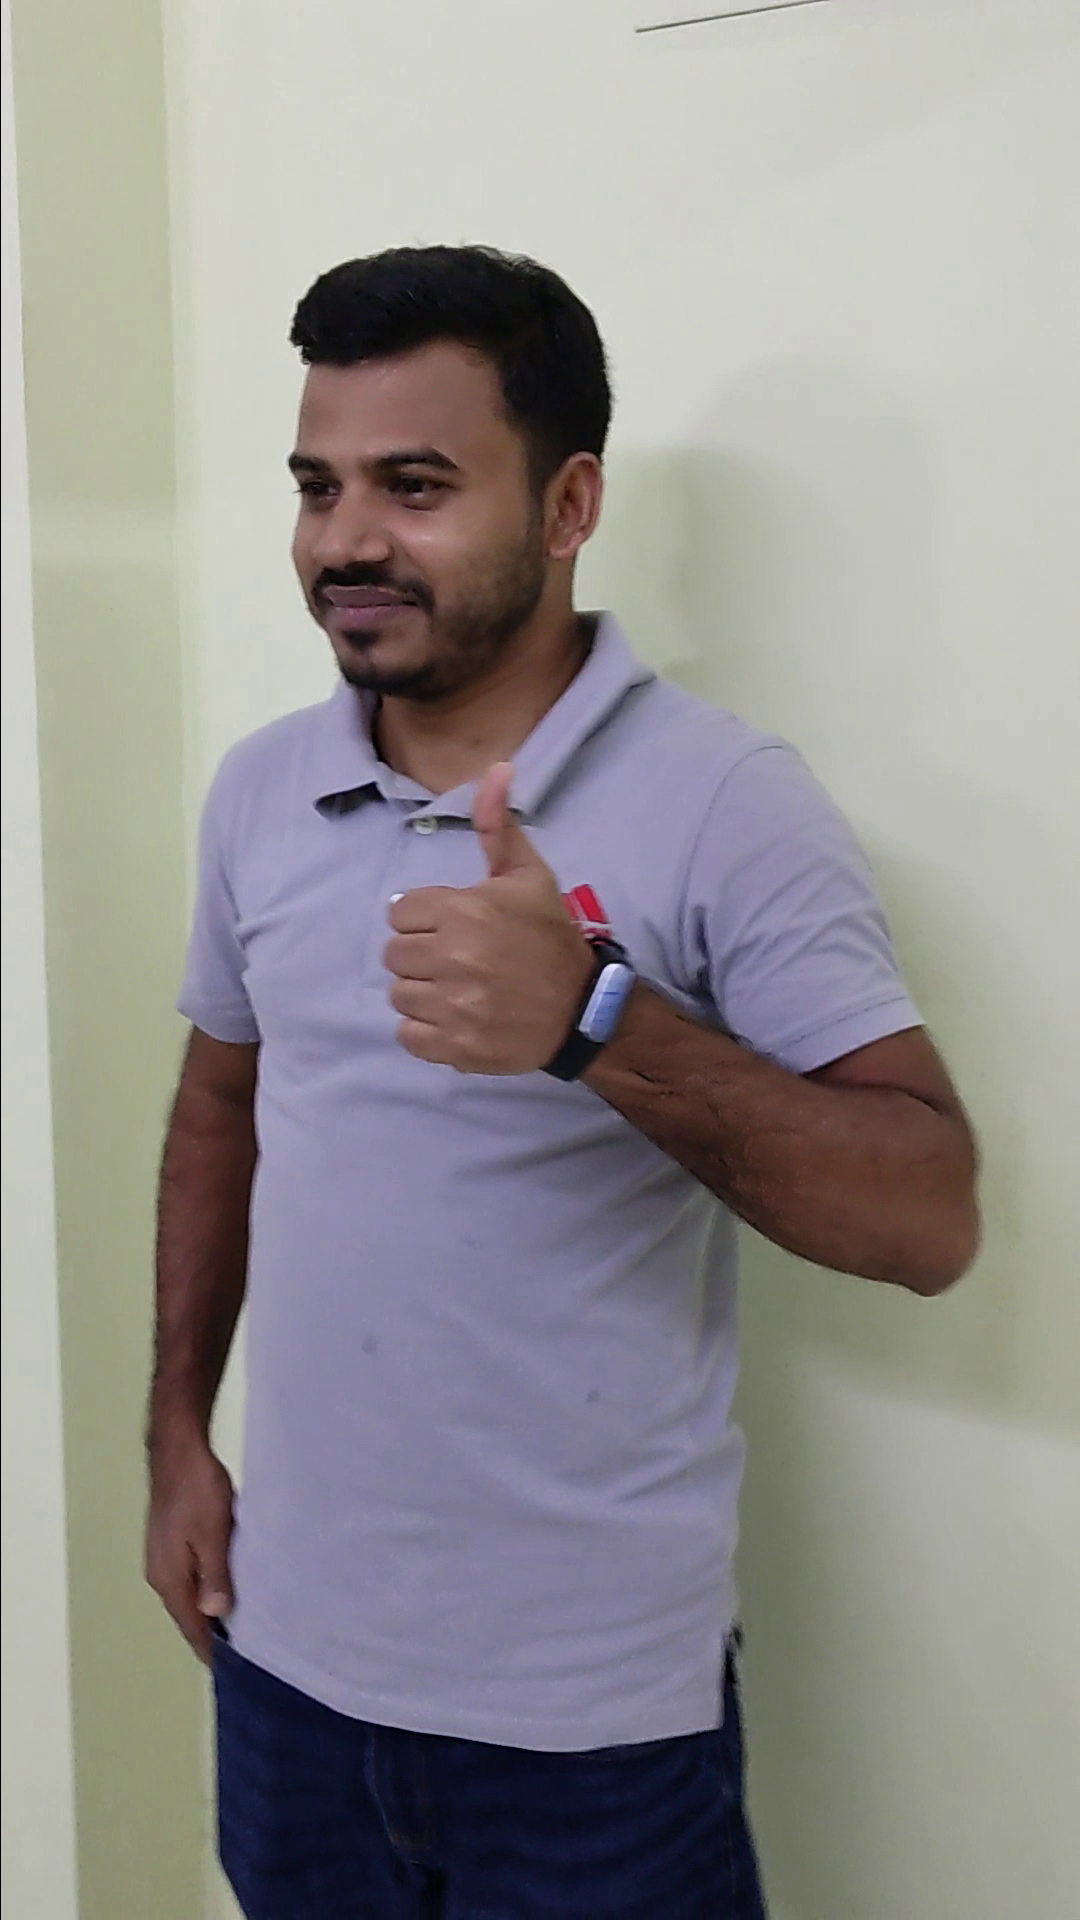Like: (378, 761, 618, 1098)
None: (113, 1407, 261, 1700)
